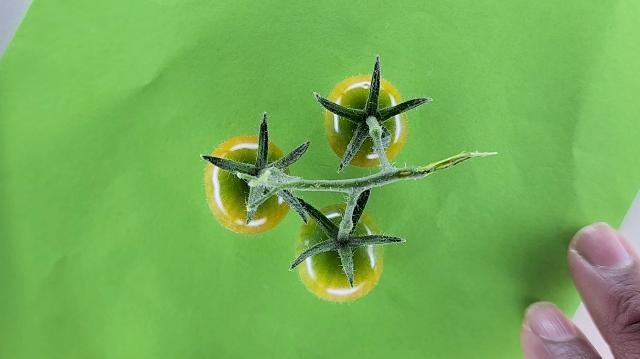Fully Grown: (294, 205, 385, 304), (203, 136, 292, 235), (323, 74, 407, 166)
